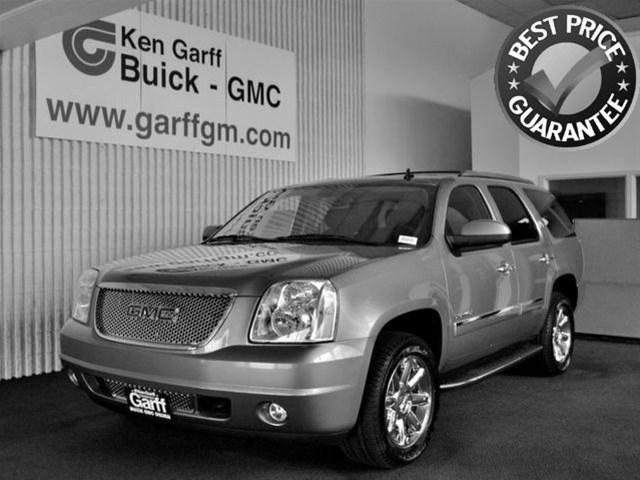car: (60, 169, 588, 467)
